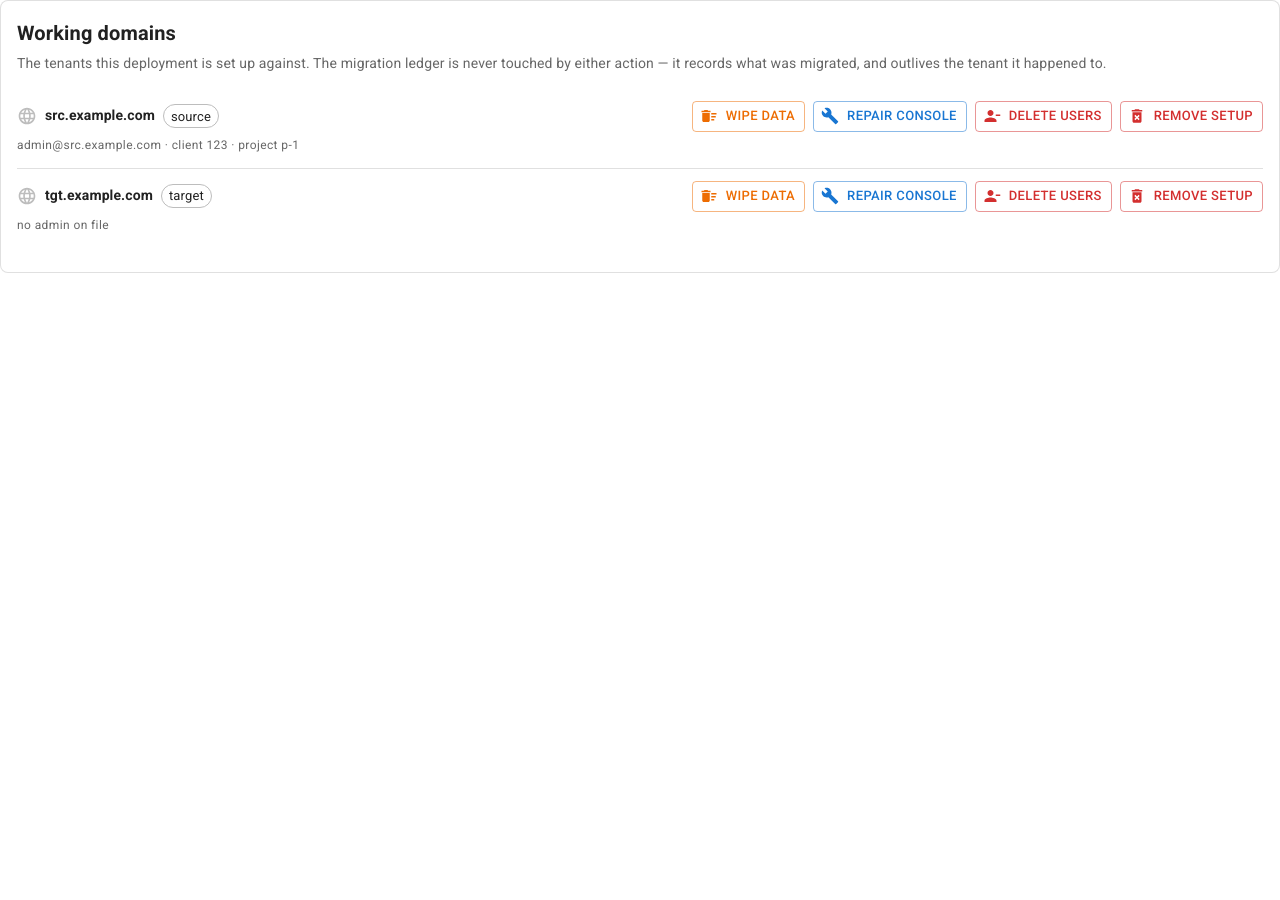
it: working domains › refuses until the exact domain is typed
Click the button with test id "wipe-source" at (748, 116), box [692,101,805,132]
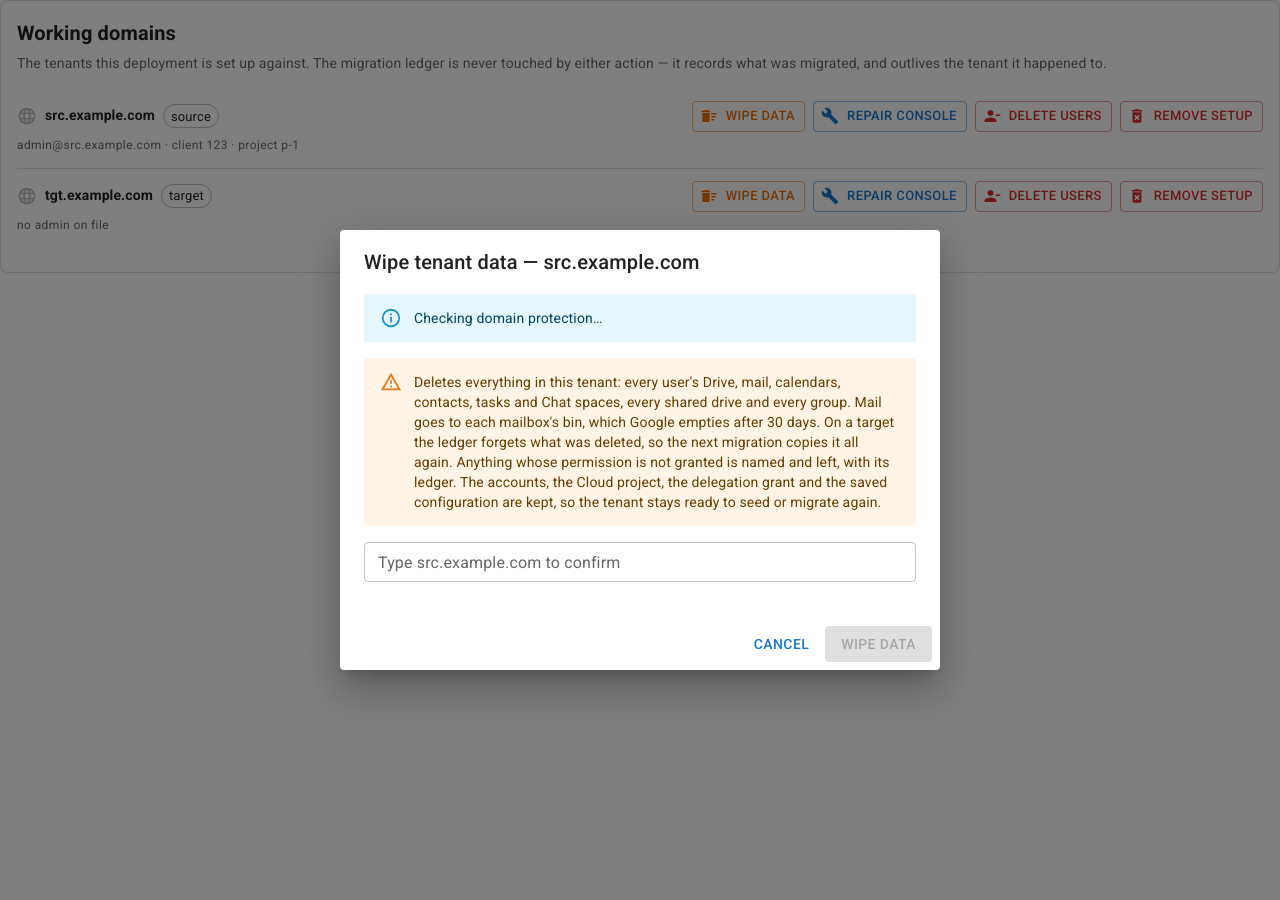
Result: the button with test id "confirm-act" is disabled at [825,626,932,662]
Type "src.example.co" into the field with test id "confirm-domain" at (640, 562), box [364,542,916,582]
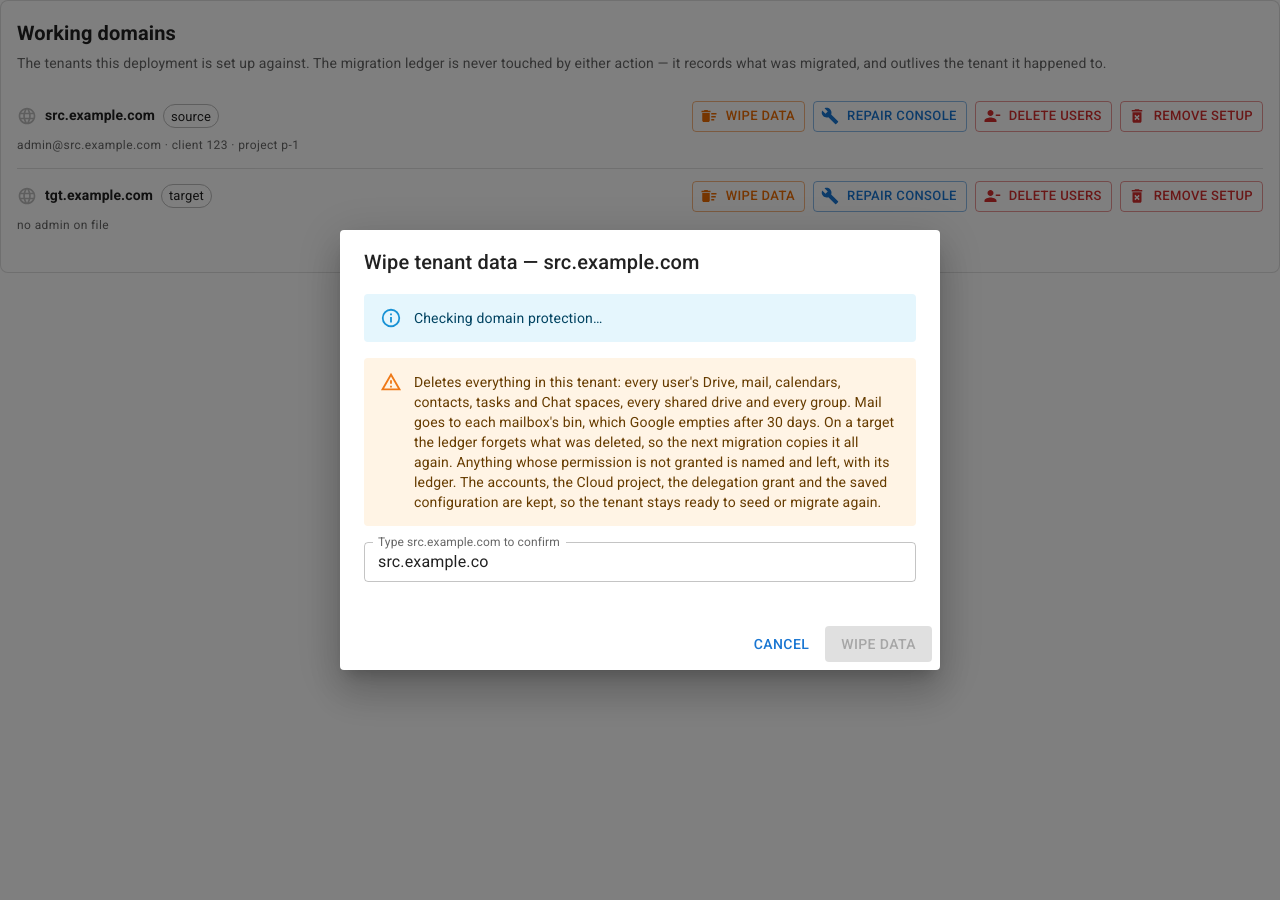
Result: the button with test id "confirm-act" is disabled at [825,626,932,662]
Replace the text in the field with test id "confirm-domain" with "src.example.com" at (640, 562), box [364,542,916,582]
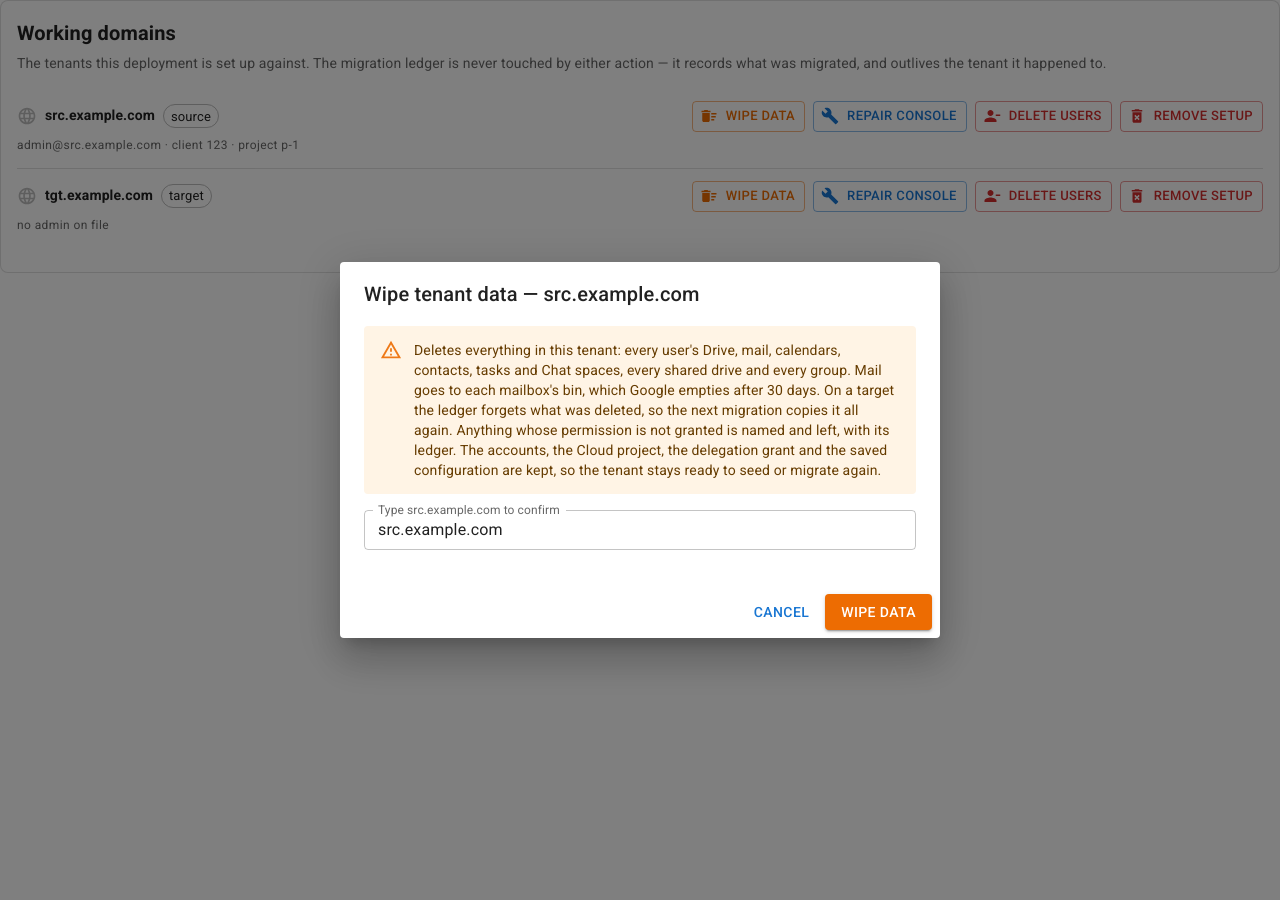
Result: the button with test id "confirm-act" is enabled at [825,594,932,630]
